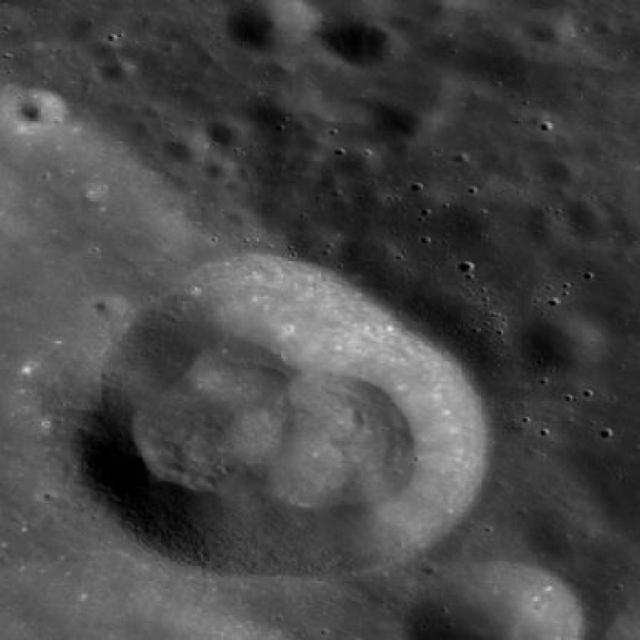crater: (62, 274, 490, 582), (516, 306, 615, 376), (506, 38, 602, 107), (317, 0, 412, 63), (523, 502, 611, 566), (381, 56, 470, 119), (238, 78, 324, 140), (224, 0, 315, 55), (378, 0, 472, 40), (378, 99, 442, 144), (553, 200, 613, 242), (524, 212, 574, 250), (19, 86, 70, 122), (526, 8, 576, 44), (331, 138, 380, 174), (162, 130, 212, 164), (204, 112, 250, 146), (542, 154, 584, 183), (97, 52, 137, 82), (92, 294, 128, 318), (299, 128, 332, 152), (264, 58, 298, 80), (202, 156, 235, 178), (584, 139, 612, 159), (225, 204, 252, 224), (591, 16, 617, 35), (142, 100, 166, 116)
